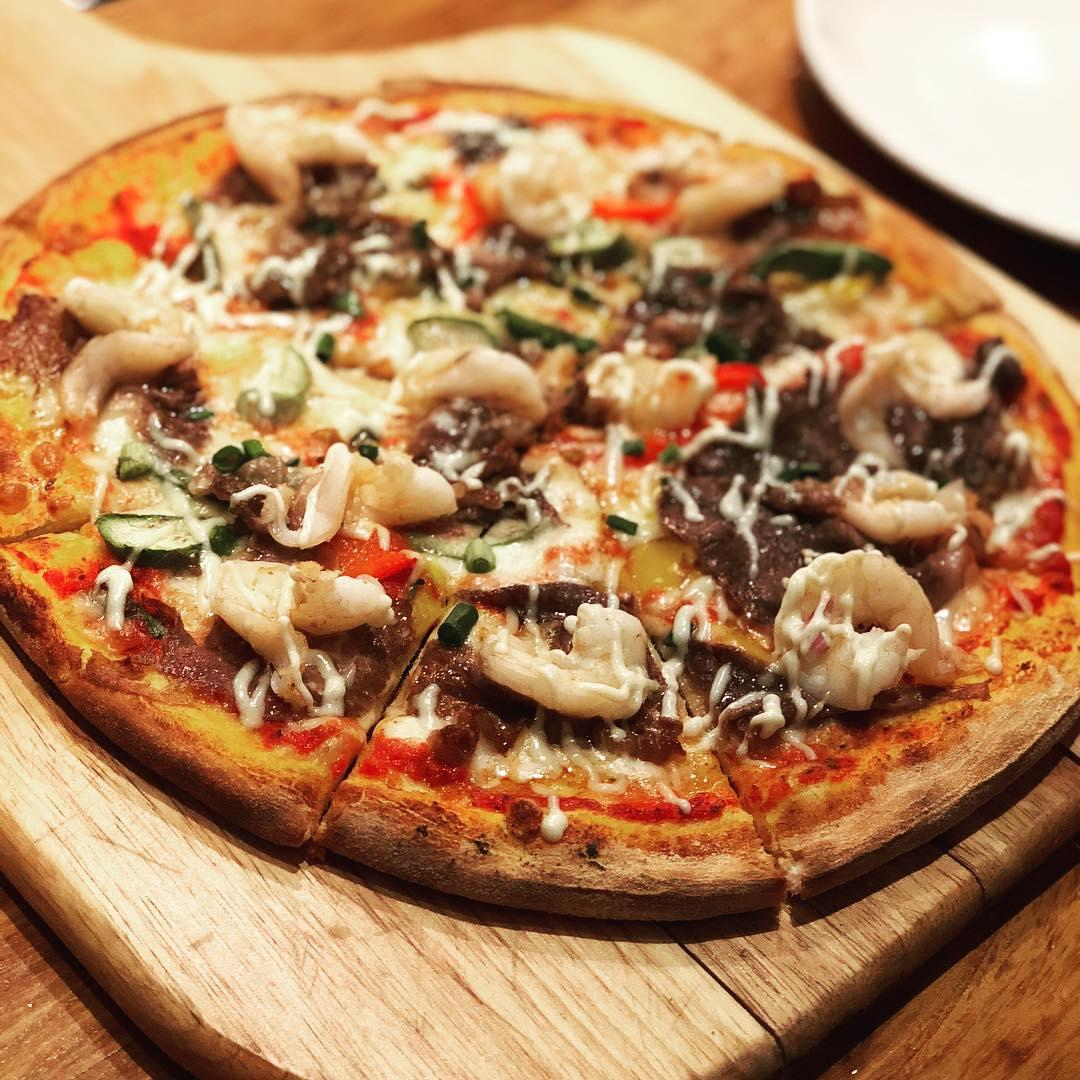Chicken: (761, 548, 938, 703), (474, 604, 656, 714), (211, 544, 385, 652), (391, 328, 554, 425), (54, 261, 185, 381), (848, 324, 958, 461), (224, 104, 352, 192), (214, 461, 378, 529), (828, 464, 971, 538), (328, 441, 443, 521), (661, 163, 796, 230), (594, 358, 705, 429), (508, 154, 605, 223)
Pizza: (4, 91, 1080, 918)
